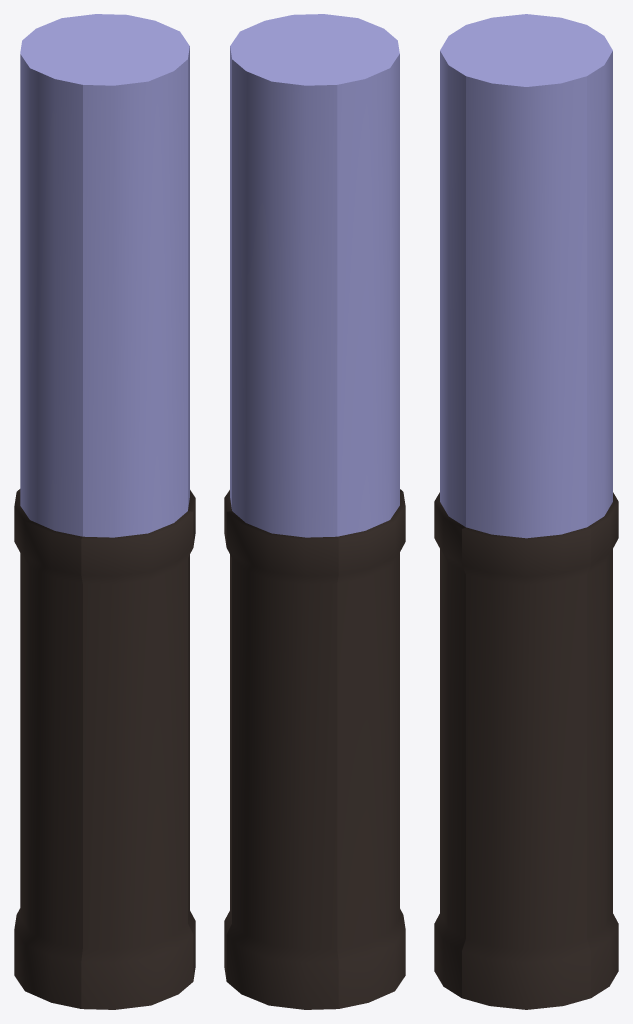
Rendered from Pillar.fbx.
3 renders of one model, left to right at view 1: azimuth 30°, elevation 25°; view 2: azimuth 150°, elevation 25°; view 3: azimuth 270°, elevation 25°, orthographic.
Visible parts, largest first — view 1: pCube11; view 2: pCube11; view 3: pCube11.
Boxes of the visible parts, x1,y1,x2,y2 form: pCube11: (14, 14, 195, 1009); pCube11: (224, 14, 405, 1009); pCube11: (434, 14, 618, 1009).
Bounding box in the file's own units: 23.18 × 128 × 23.18.
